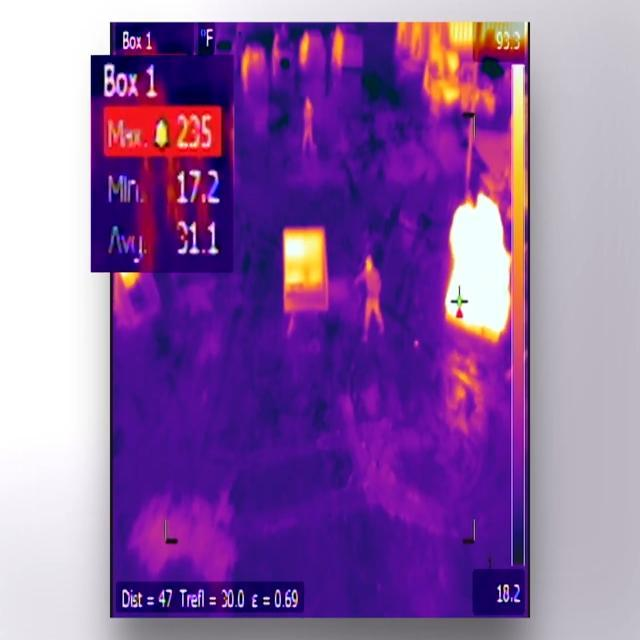fire: (445, 193, 512, 345)
